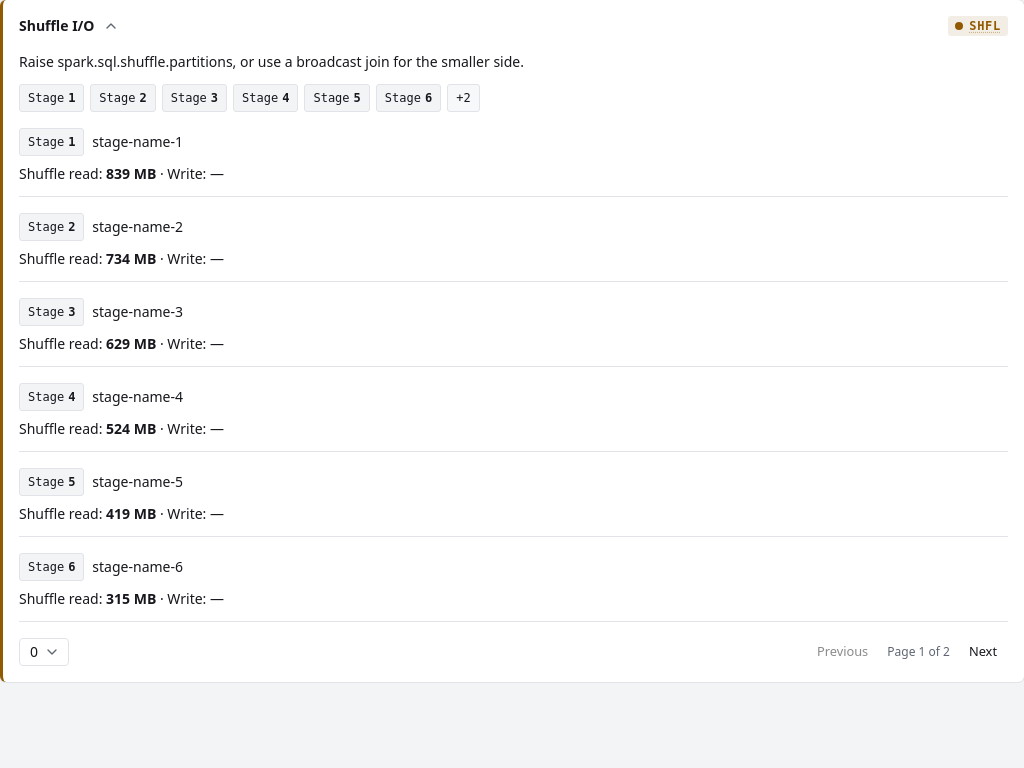
it: paginates stage detail 6-at-a-time, hiding the rest until Next is clicked
Expected: the text "Page 1 of 2" is shown, [887,644,950,660]
Click the button "Next". click: (983, 652)
box: [958,638,1008,666]
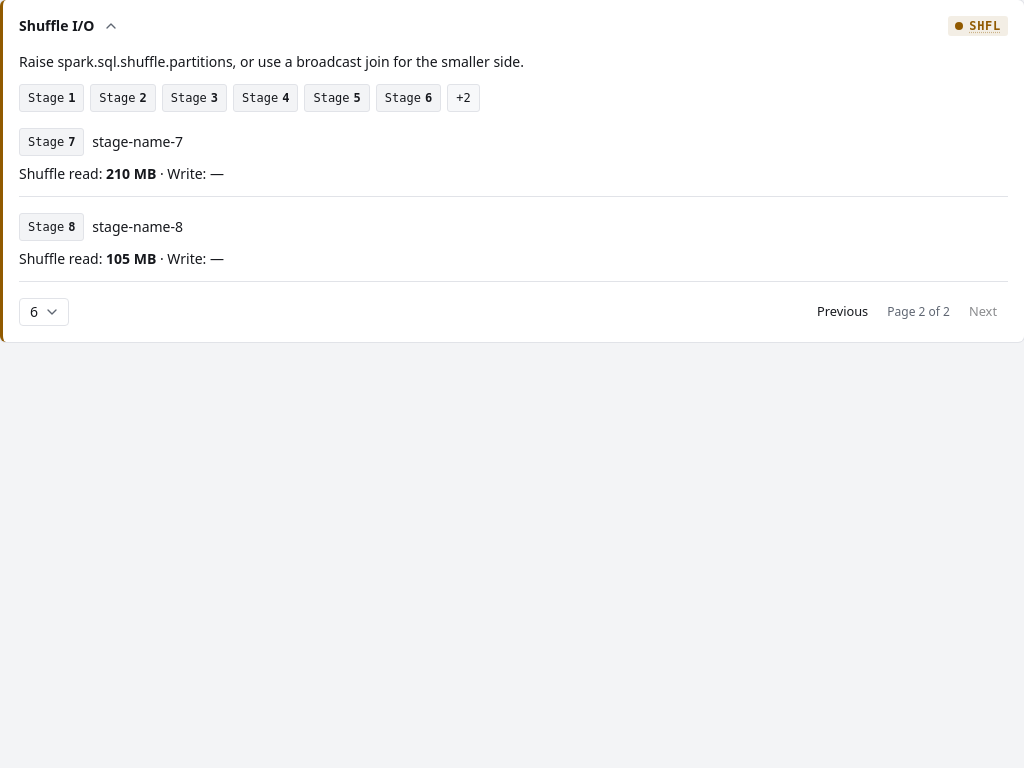
Expected: the text "Page 2 of 2" is shown, [887,304,950,320]
Expected: the text "stage-name-7" is shown, [92,132,183,152]
Expected: the text "stage-name-8" is shown, [92,217,183,237]
